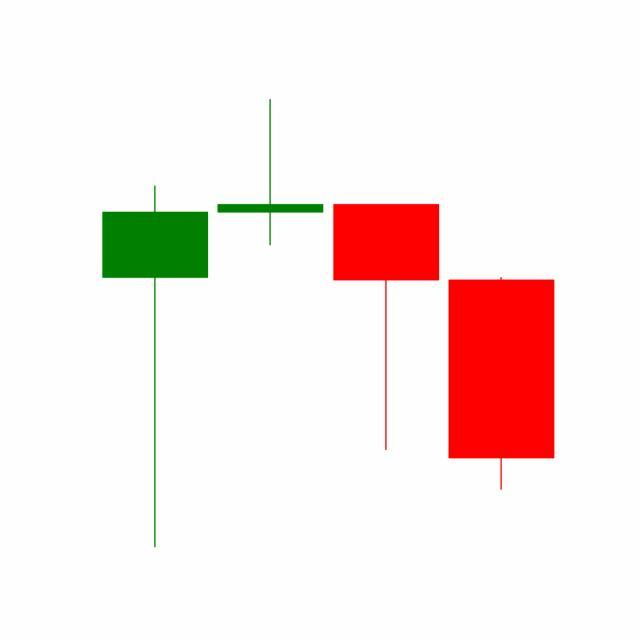Hammer: (329, 202, 445, 453)
